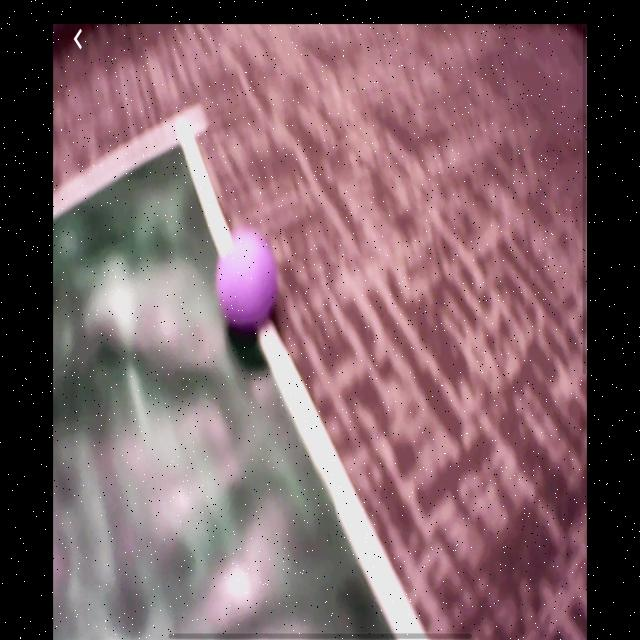ball: (214, 225, 278, 333)
